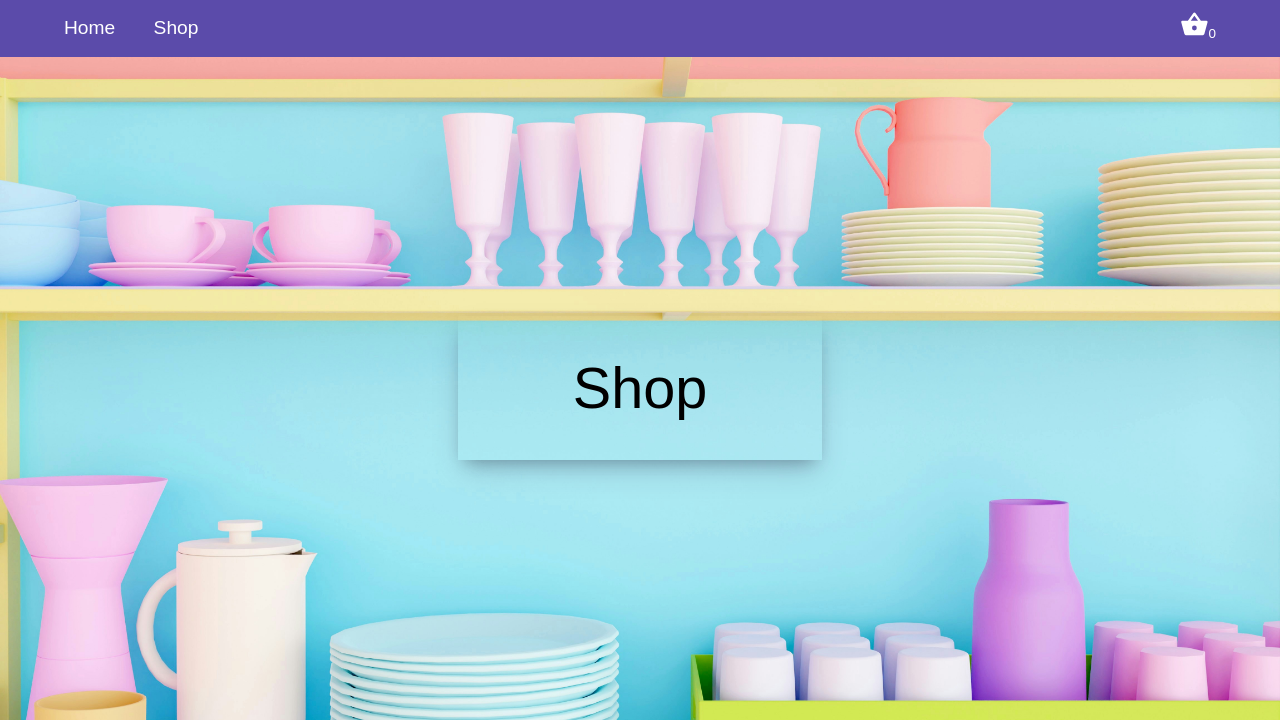
it: App integration tests › Renders the correct routes via the outlet › renders the basket page
What coordinates should you click on to do the following:
click the link named "basket"
I would click on:
 (1198, 32)
Its box is [1180,21,1216,42].
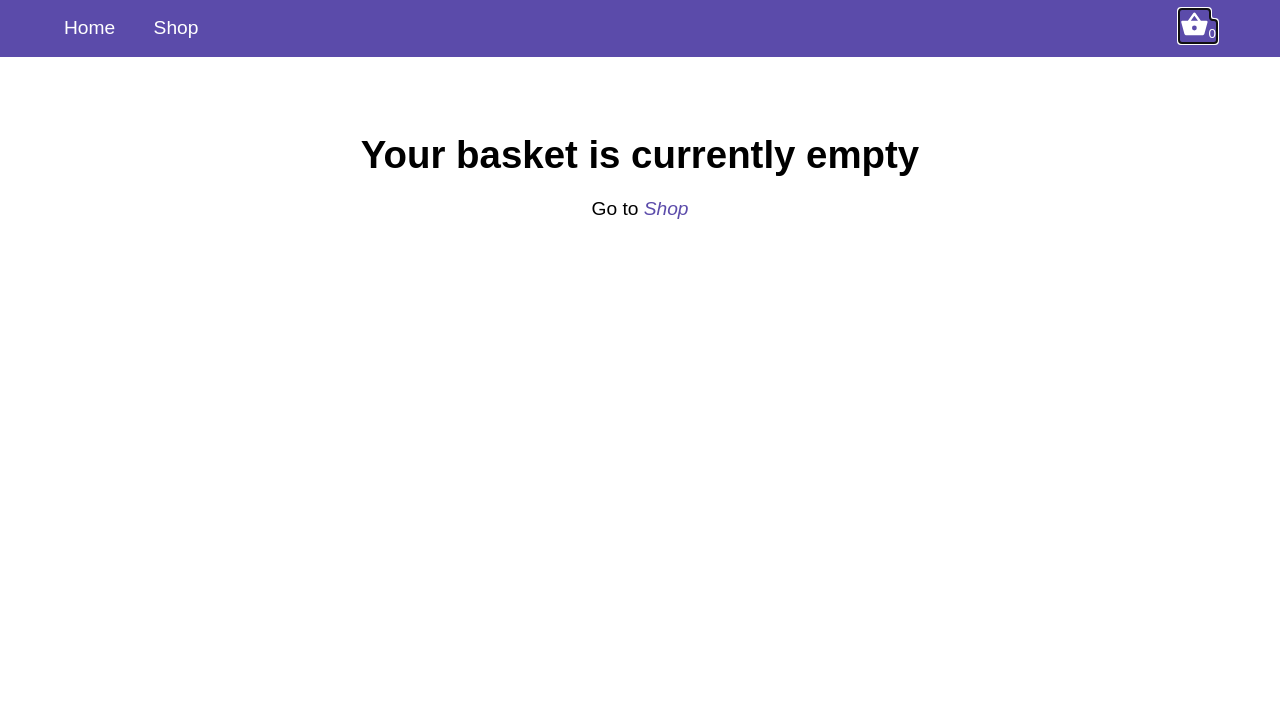
Now the element with test id "basket-page" is shown, box [361,133,919,219]
